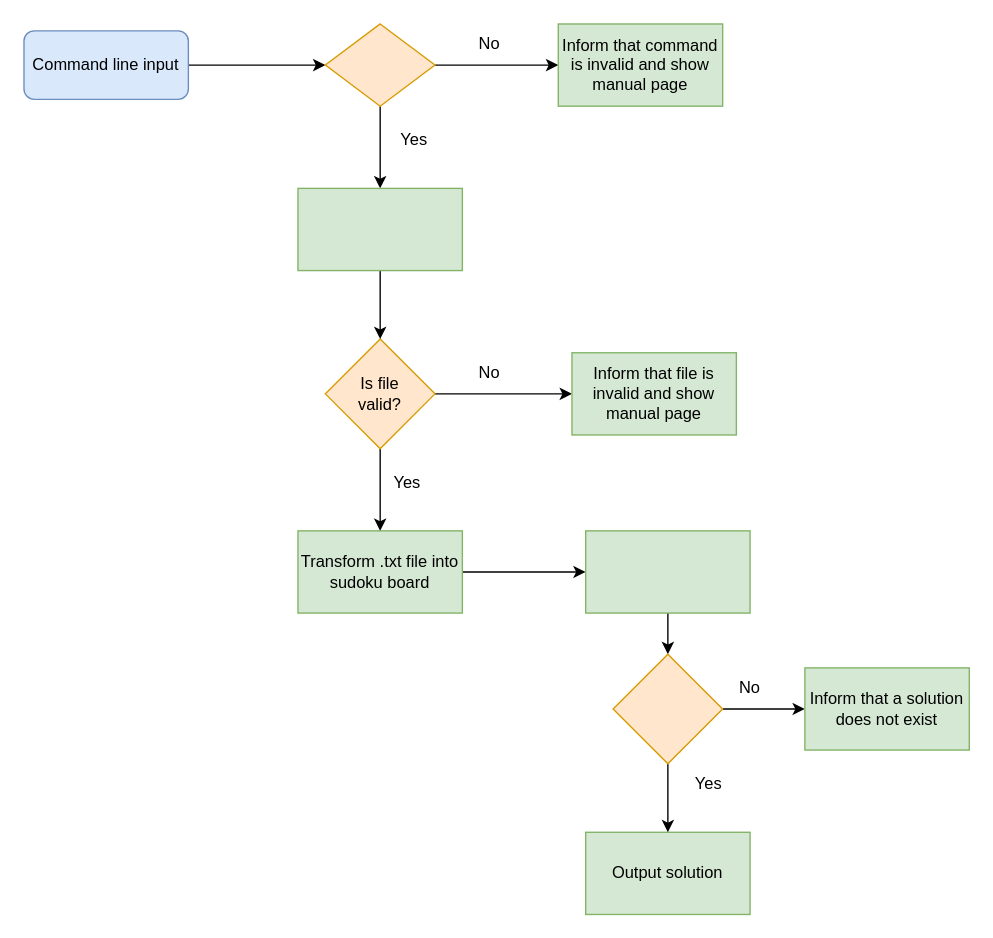
Image size: 993x938. Some labels were removed from this diagram. The shapes that lost their labels are listed below. From the top down, each one's centre as x and y in pixels, then its label:
At (379,64): "Is input valid?".
At (379,229): "Get .txt file from input".
At (667,571): "Start backtracking algorithm".
At (667,708): "Does solution exist?".
